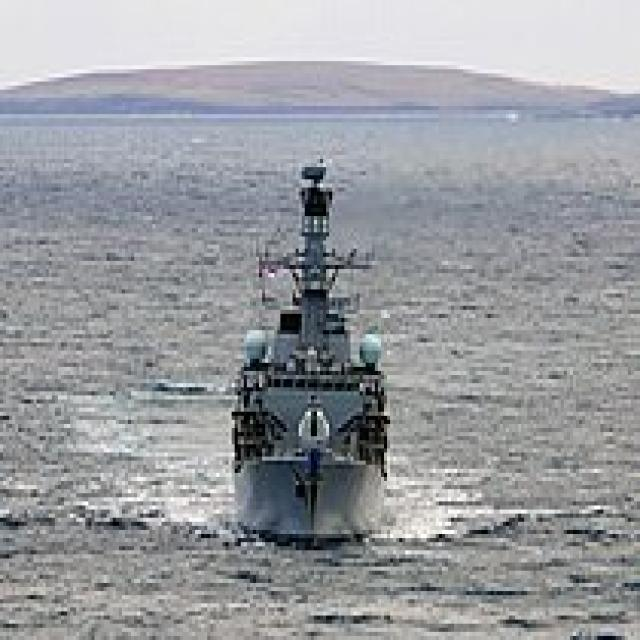Warship: (229, 143, 390, 550)
